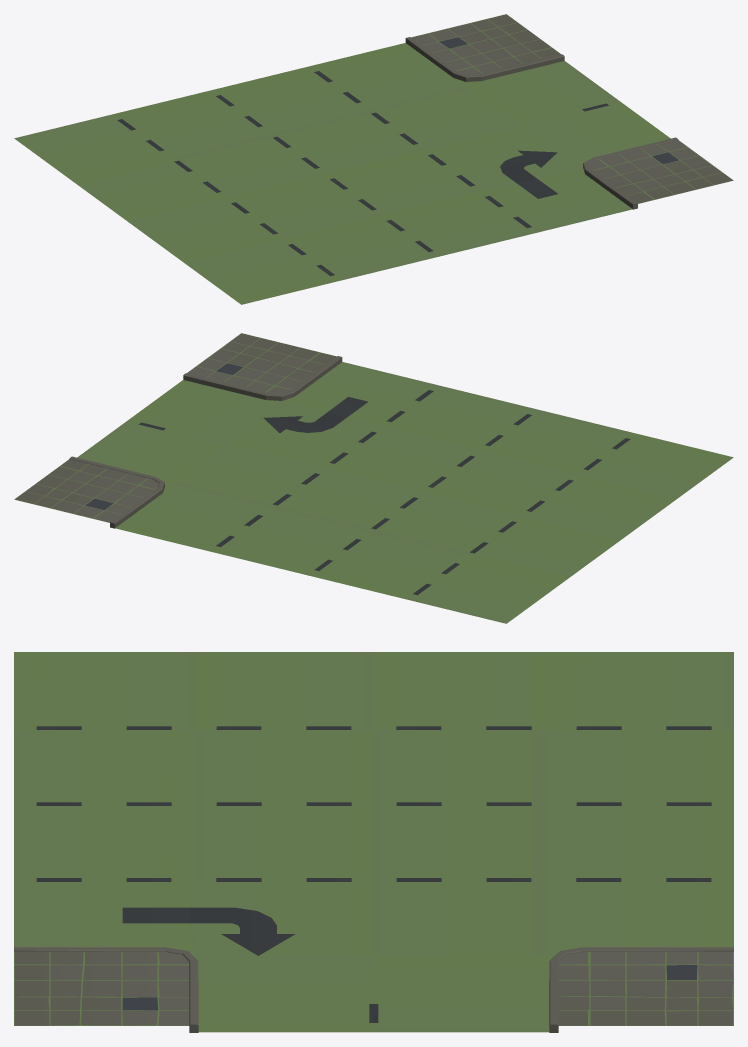
The model's file is Road_52.fbx.
The picture shows the model from 3 angles, top to bottom: view 1: azimuth 30°, elevation 25°; view 2: azimuth 150°, elevation 25°; view 3: azimuth 270°, elevation 25°; orthographic projection. The views are drawn at different scales.
Visible parts, largest first — view 1: Road_52; view 2: Road_52; view 3: Road_52.
Boxes of the visible parts, left/top/right/bottom form: Road_52: left=14, top=14, right=733, bottom=304; Road_52: left=14, top=333, right=733, bottom=623; Road_52: left=14, top=652, right=733, bottom=1032.
Bounding box in the file's own units: 15 × 0.15 × 12.
